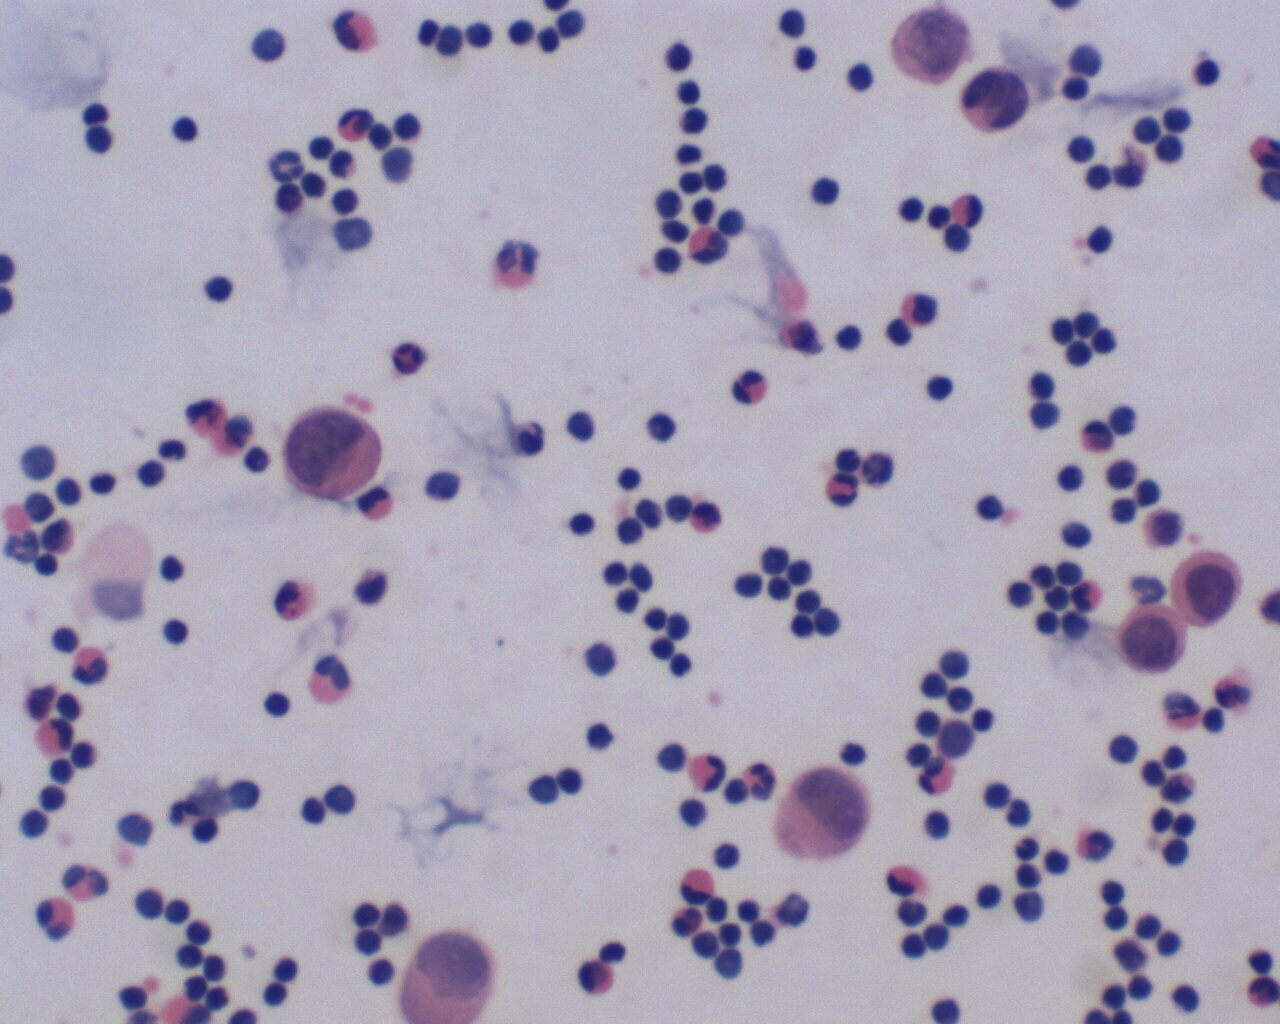ab: (279, 405, 387, 503), (771, 761, 874, 862), (959, 62, 1034, 141), (1170, 550, 1246, 626), (1119, 601, 1193, 678)
lymph: (922, 367, 961, 406), (200, 269, 239, 308), (922, 807, 962, 845), (585, 714, 621, 757), (1102, 732, 1142, 767), (807, 173, 842, 211), (1187, 53, 1225, 88), (173, 108, 204, 149), (614, 460, 648, 496), (161, 616, 195, 651), (732, 569, 766, 605), (835, 317, 865, 355), (1058, 72, 1094, 104), (843, 60, 875, 95), (656, 41, 694, 70), (258, 688, 290, 717)
neutro: (730, 365, 772, 411), (743, 758, 782, 806), (387, 340, 429, 378), (1068, 577, 1106, 614)
